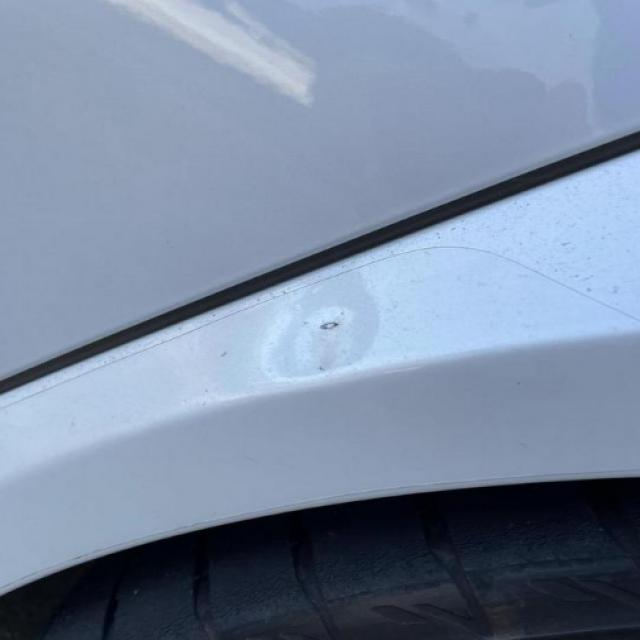dents: (243, 263, 454, 396)
